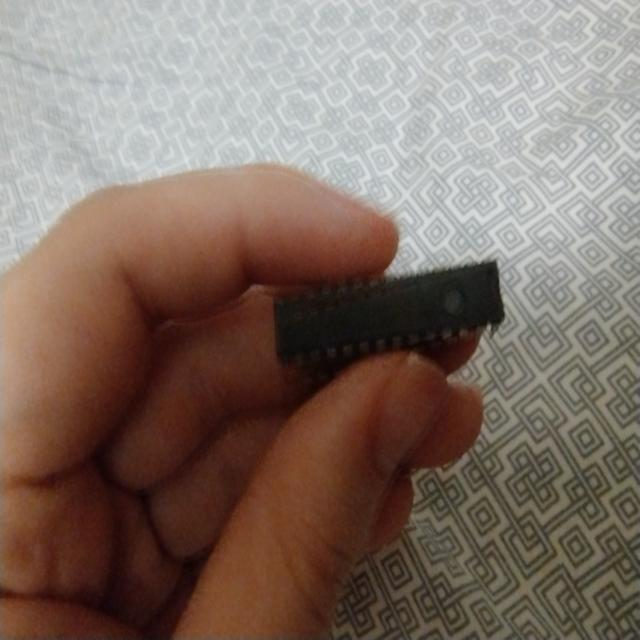atmega: (269, 255, 507, 382)
